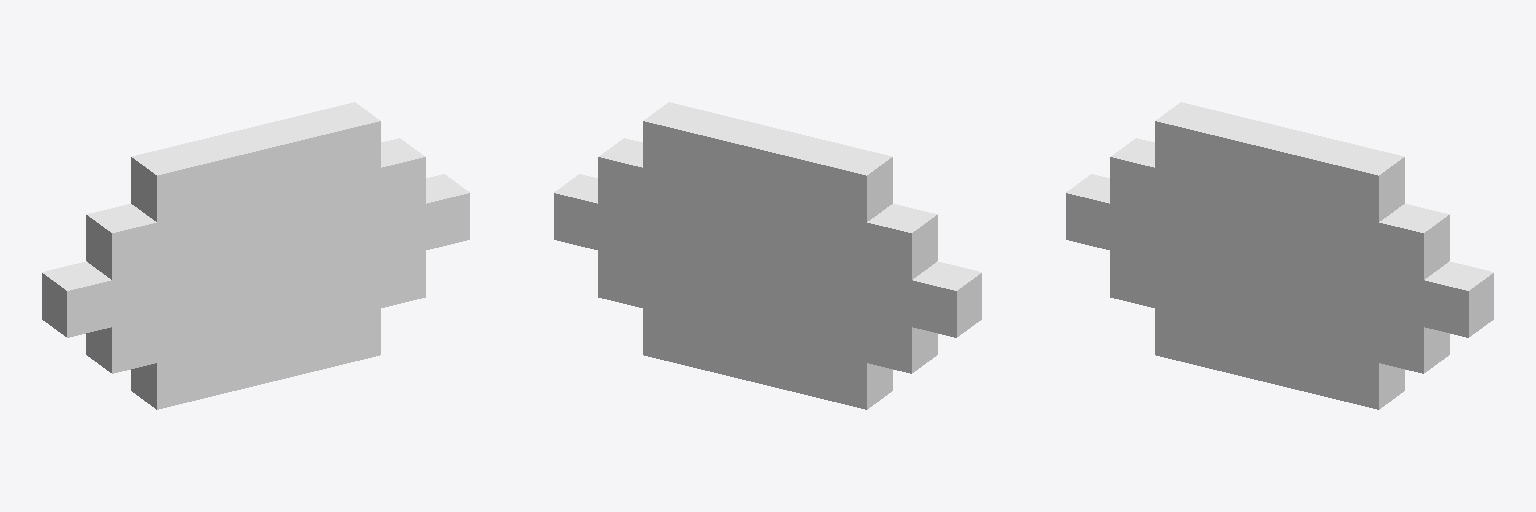
File: eye12.obj
3 renders of one model, left to right at view 1: azimuth 30°, elevation 25°; view 2: azimuth 150°, elevation 25°; view 3: azimuth 330°, elevation 25°, orthographic.
Parts seen in each view (by area): view 1: eye12; view 2: eye12; view 3: eye12.
Boxes of the visible parts, box(x1,y1,x2,y2) form: eye12: box(42, 102, 469, 409); eye12: box(554, 102, 981, 409); eye12: box(1066, 102, 1493, 409).
Bounding box in the file's own units: 0.9 × 0.5 × 0.1.